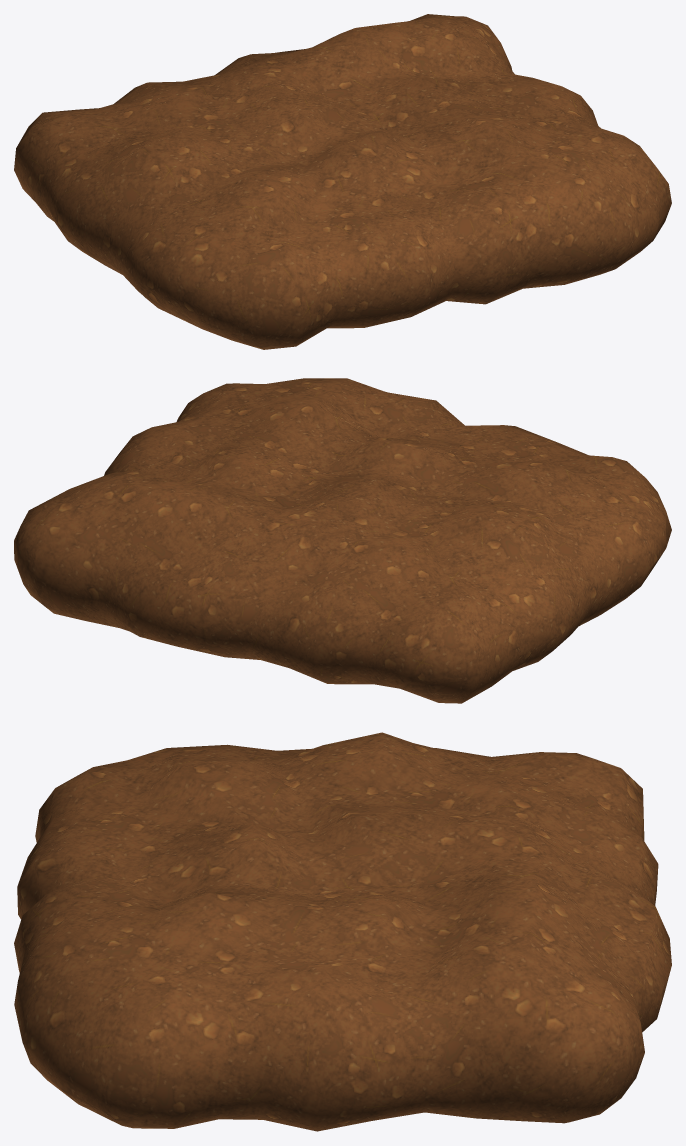
Rendered from Parsela_Seca.fbx.
3 renders of one model, top to bottom at view 1: azimuth 30°, elevation 25°; view 2: azimuth 150°, elevation 25°; view 3: azimuth 270°, elevation 25°, orthographic. The views are drawn at different scales.
Parts seen in each view (by area): view 1: Retopo_Mball.004; view 2: Retopo_Mball.004; view 3: Retopo_Mball.004.
Part boxes in pixels (x1,y1,x2,y2): Retopo_Mball.004: (14, 14, 671, 349); Retopo_Mball.004: (14, 378, 671, 703); Retopo_Mball.004: (14, 732, 671, 1131).
Bounding box in the file's own units: 165 × 43.31 × 149.
Materials: 1 (1 with a texture image).
